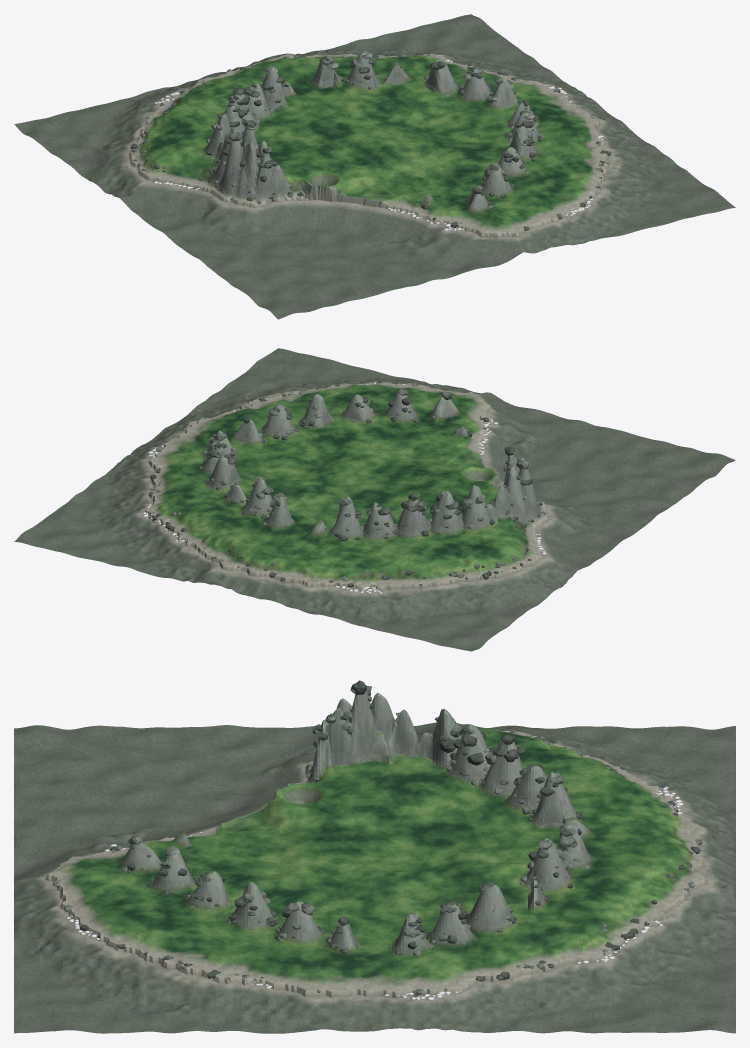
File: Terrain_P2.fbx
3 renders of one model, top to bottom at view 1: azimuth 30°, elevation 25°; view 2: azimuth 150°, elevation 25°; view 3: azimuth 270°, elevation 25°, orthographic. The views are drawn at different scales.
Visible parts, largest first — view 1: Ground, Surf; view 2: Ground, Surf; view 3: Ground, Surf.
Boxes of the visible parts, box(x1,y1,x2,y2) form: Ground: box(14, 14, 735, 319); Surf: box(152, 53, 603, 230); Ground: box(14, 348, 735, 651); Surf: box(141, 382, 546, 593); Ground: box(14, 690, 735, 1033); Surf: box(66, 786, 683, 1000).
Size of what is drawn, in the model's own units: 64000 by 11084 by 64000.
